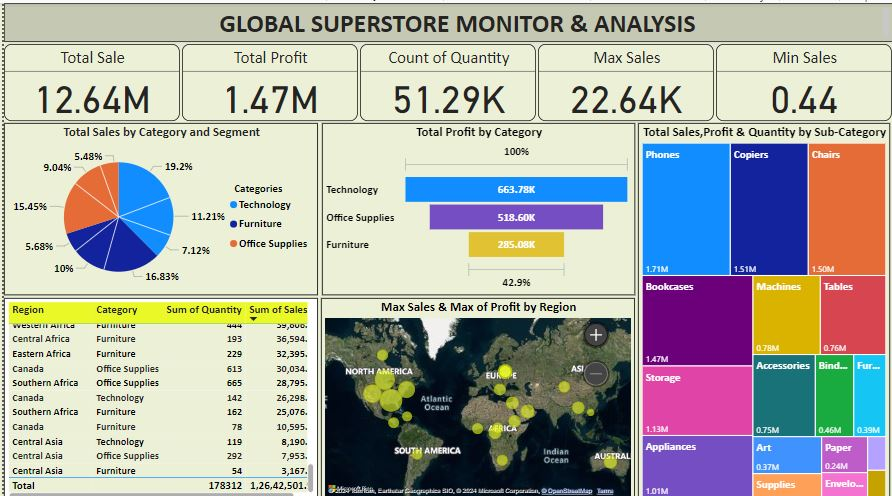

This screenshot's page, from the dashboard's own definition file:
{"tool":"powerbi","page":{"name":"Page 1","canvas":[1280,720],"ordinal":0},"visuals":[{"type":"textbox","box":[0,0,1280,56.2],"z":0},{"type":"card","title":"Total Sale","fields":{"Values":["Sum(Orders.Sales)"]},"box":[0,59,253.4,110.9],"z":1000},{"type":"card","title":"Total Profit","fields":{"Values":["Sum(Orders.Profit)"]},"box":[256.3,59,253.4,110.9],"z":2000},{"type":"card","title":"Count of Quantity","fields":{"Values":["CountNonNull(Orders.Quantity)"]},"box":[512.6,59,253.4,110.9],"z":3000},{"type":"card","title":"Max Sales","fields":{"Values":["Max(Orders.Sales)"]},"box":[769,59,253.4,110.9],"z":4000},{"type":"card","title":"Min Sales","fields":{"Values":["Min(Orders.Sales)"]},"box":[1025.3,59,253.4,110.9],"z":5000},{"type":"pieChart","title":"Total Sales by Category and Segment","fields":{"Category":["Orders.Category"],"Y":["Sum(Orders.Sales)"],"Series":["Orders.Segment"]},"box":[0,172.8,452.2,247.7],"z":6000},{"type":"tableEx","fields":{"Values":["Orders.Region","Orders.Category","Sum(Orders.Quantity)","Sum(Orders.Sales)"]},"box":[0,424.8,452.2,295.2],"z":7000},{"type":"map","title":"Max Sales & Max of Profit by Region","fields":{"Category":["Orders.Region"],"Size":["Max(Orders.Sales)"]},"box":[456.5,424.8,452,295.2],"z":8000},{"type":"funnel","title":"Total Profit by Category","fields":{"Category":["Orders.Category"],"Y":["Sum(Orders.Profit)"]},"box":[457.9,172.8,450.7,247.7],"z":9000},{"type":"treemap","title":"Total Sales,Profit & Quantity by Sub-Category","fields":{"Group":["Orders.Sub-Category"],"Values":["Sum(Orders.Sales)"]},"box":[913,172.8,362.9,545.8],"z":10000}]}

Visuals, with their boxes in screenshot pixels (x1, y1, x2, y2), scaled from the page's 1280x720 canvas onto the 892x496 screenshot:
textbox: select_region(0, 0, 891, 39)
"Total Sale" card: select_region(0, 41, 177, 117)
"Total Profit" card: select_region(179, 41, 355, 117)
"Count of Quantity" card: select_region(357, 41, 534, 117)
"Max Sales" card: select_region(536, 41, 712, 117)
"Min Sales" card: select_region(715, 41, 891, 117)
"Total Sales by Category and Segment" pieChart: select_region(0, 119, 315, 290)
tableEx - Orders.Region x Orders.Category: select_region(0, 293, 315, 495)
"Max Sales & Max of Profit by Region" map: select_region(318, 293, 633, 495)
"Total Profit by Category" funnel: select_region(319, 119, 633, 290)
"Total Sales,Profit & Quantity by Sub-Category" treemap: select_region(636, 119, 889, 495)
